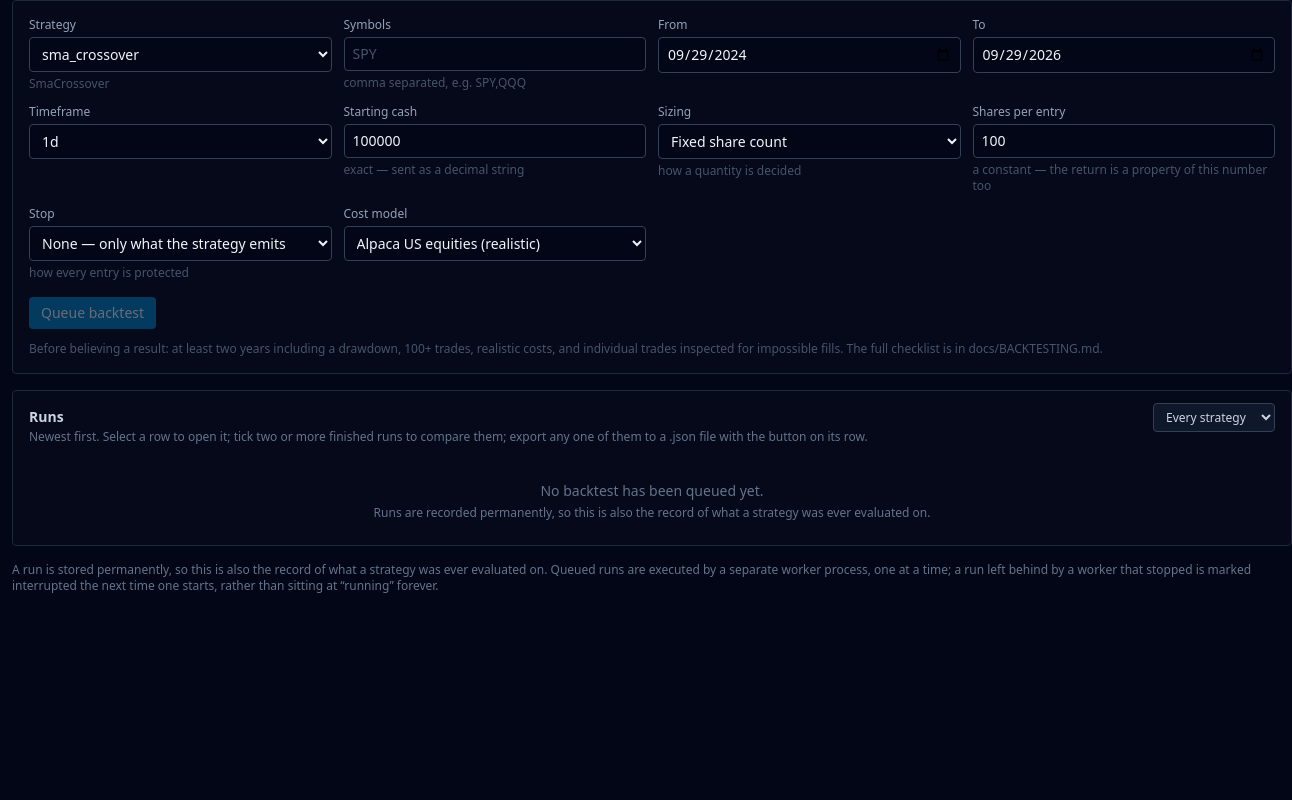
Test: the form › swaps the input and clears the value when the sizing method changes
Check: the field with placeholder "SPY" is shown, box [344,37,646,71]
Check: the field labelled "Shares per entry" is shown, box [972,124,1275,158]
Select "Risk per trade — needs a stop" in the dropdown labelled "Sizing" at [809, 142], box [658,124,960,159]
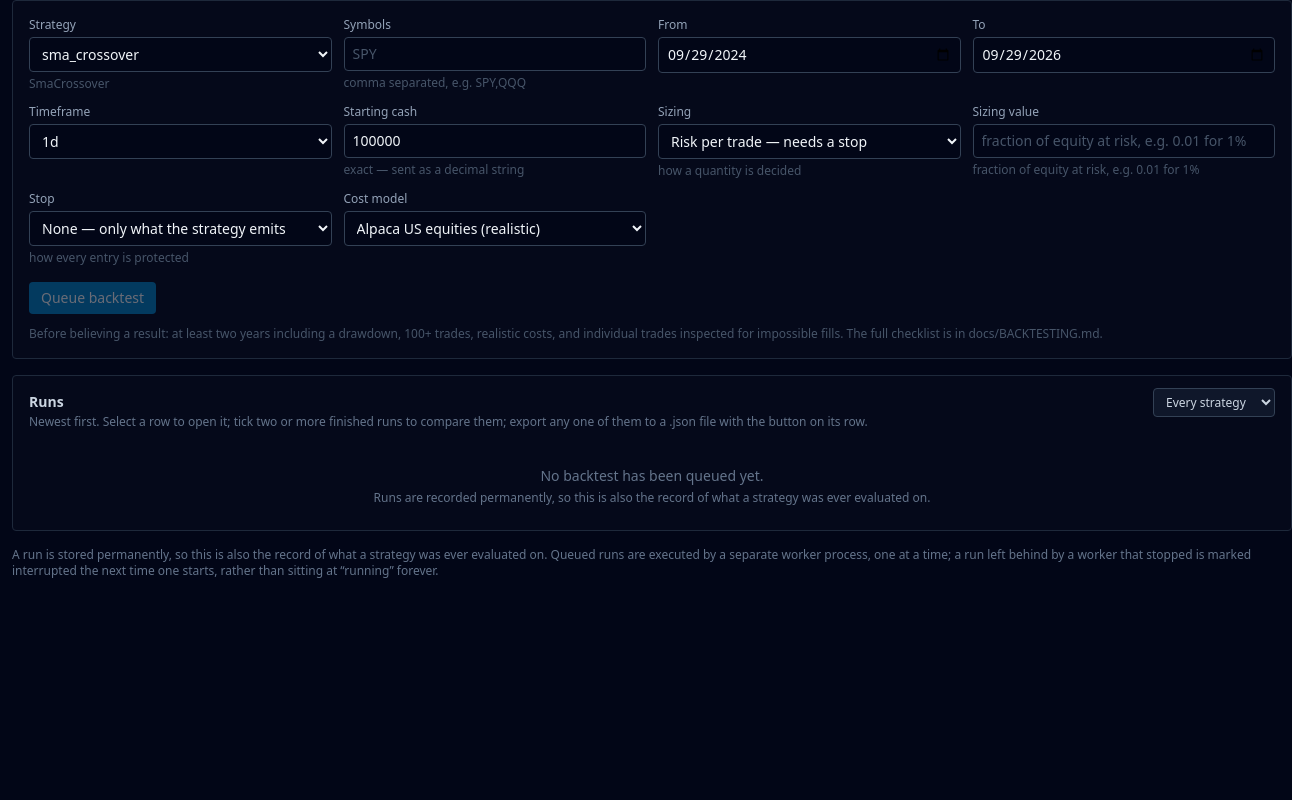
Check: the label labelled "Shares per entry" is gone
Check: the field labelled "Sizing value" is empty, box [972,124,1275,158]
